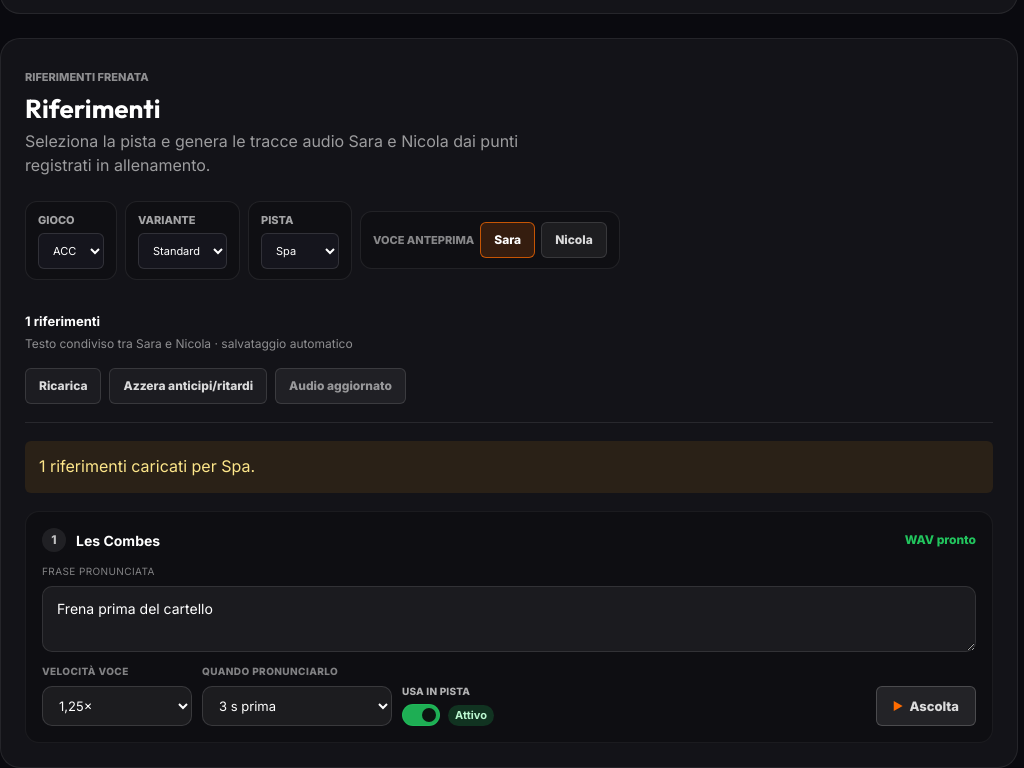
Voice Lab user interactions › autosaves references, preserves both WAV paths and flushes on pagehide
(page scrolled)
Replace the text in the text box labelled "Frase pronunciata" with "Frena al cartello nuovo" at coordinates (509, 619), box [42,586,976,652]
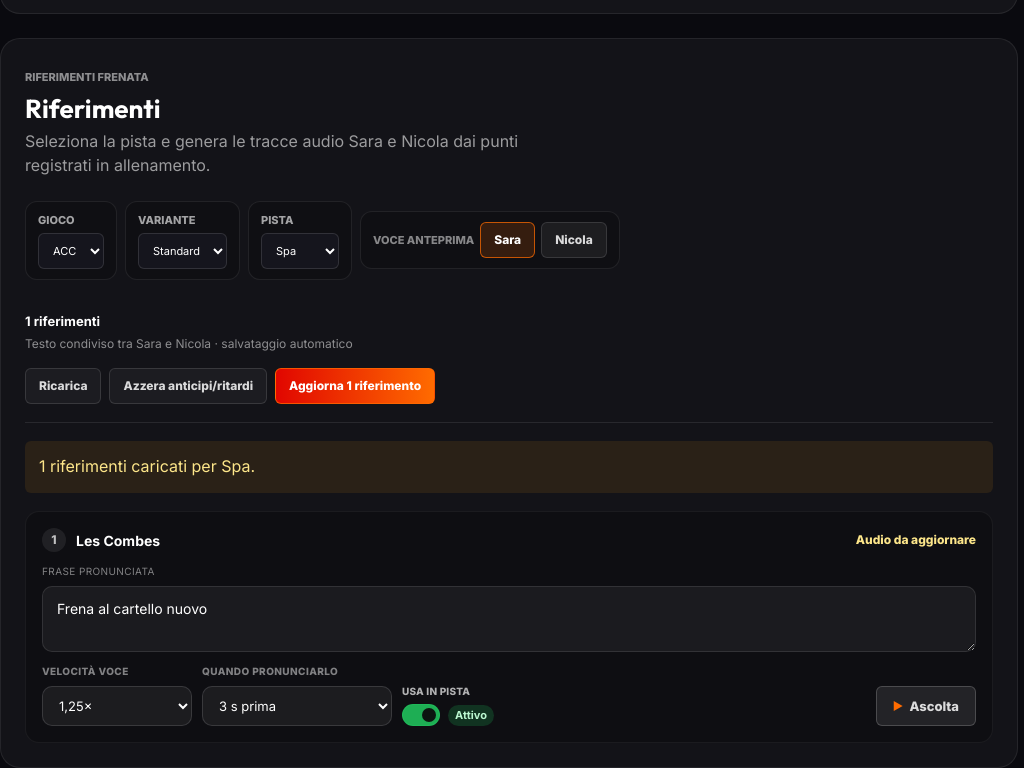
Select "1,25×" in the dropdown labelled "Velocità voce" at coordinates (117, 706), box [42,686,192,726]
Select "4 s dopo" in the dropdown labelled "Quando pronunciarlo" at coordinates (297, 706), box [202,686,392,726]
Wait 600 ms
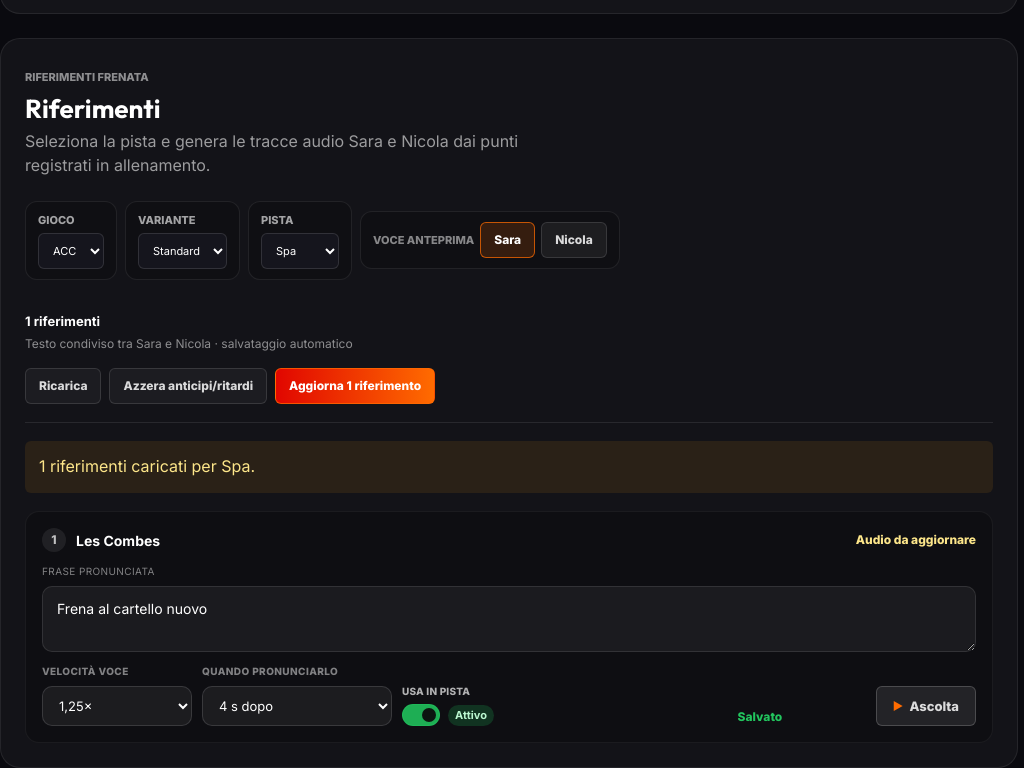
Click the button "Nicola" at coordinates (574, 240), box [541,222,607,258]
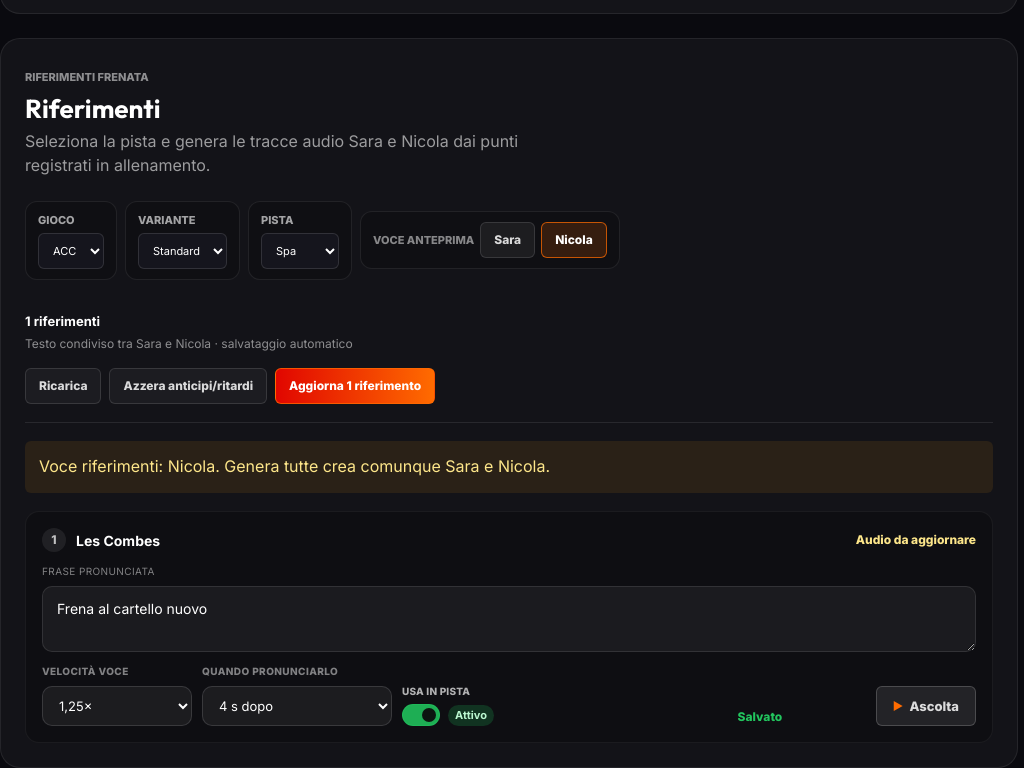
Click the button "▶ Ascolta" at coordinates (926, 706), box [876,686,976,726]
(page scrolled)
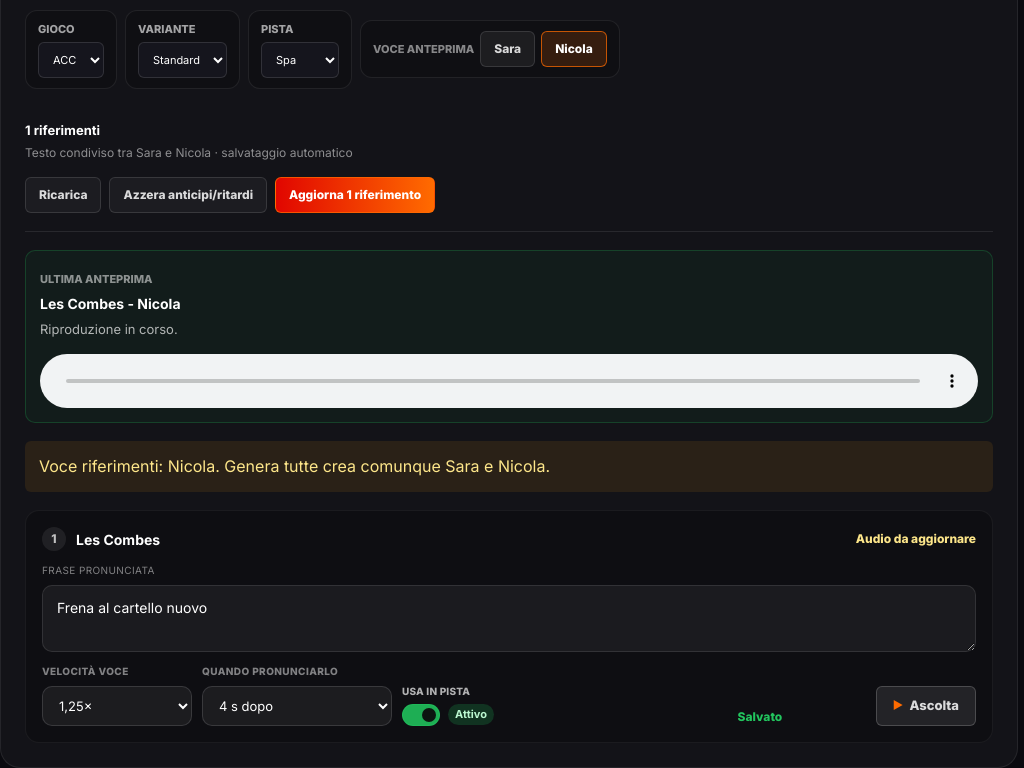
Click the switch with class "reference-availability" at coordinates (452, 706), box [402,686,502,726]
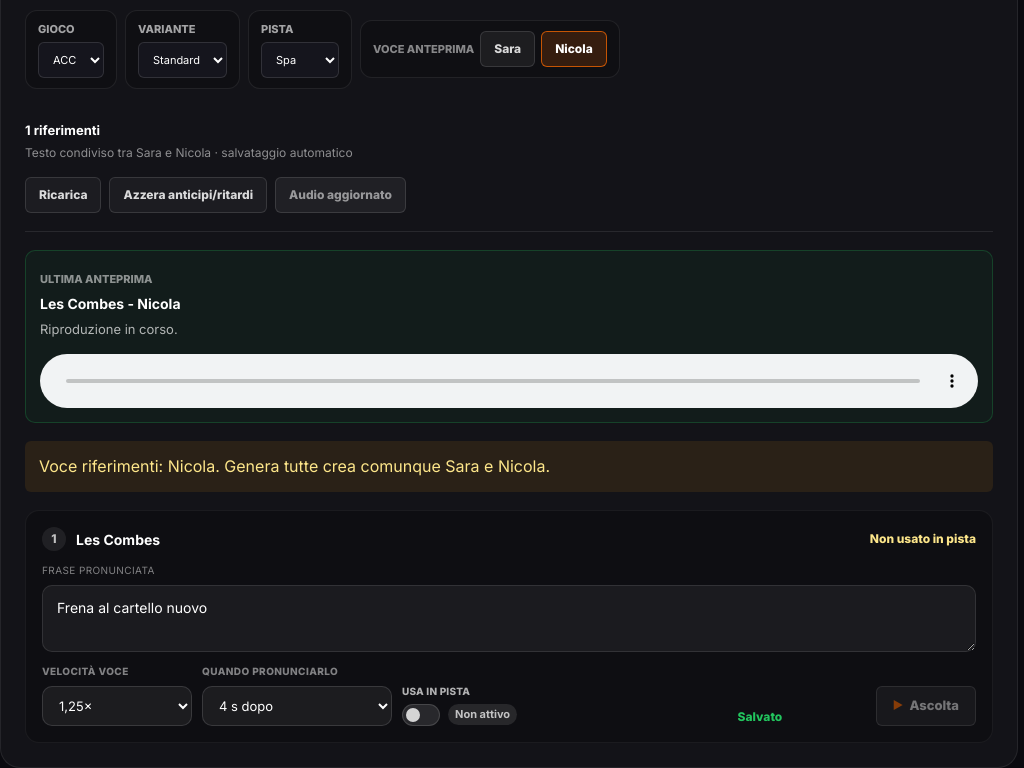
Select "Monza" in the dropdown named "Pista riferimenti" at coordinates (300, 60), box [261,42,339,78]
(page scrolled)
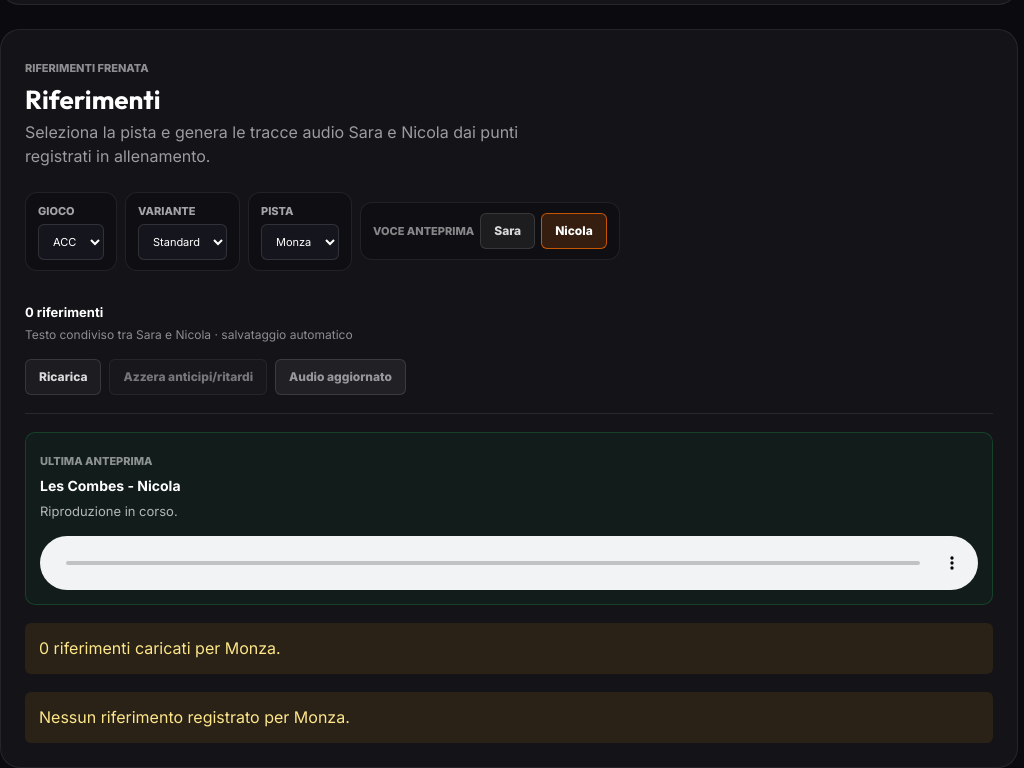
Now the text "Nessun riferimento registrato per Monza" is shown, box [39,707,350,727]
